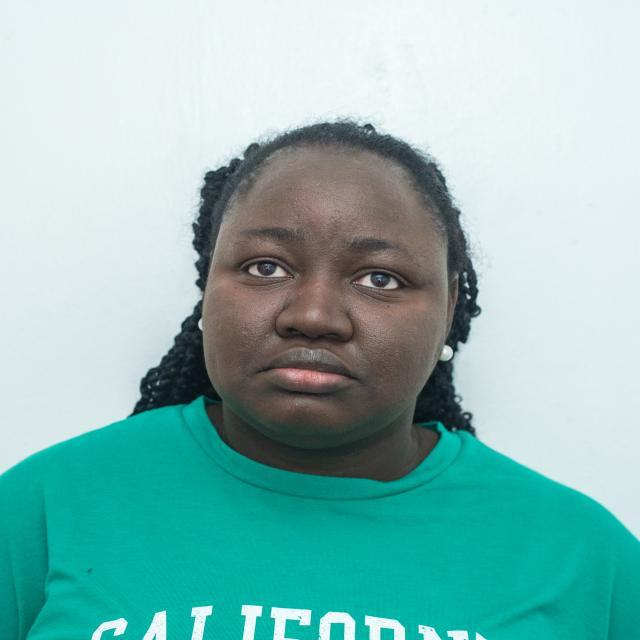sad: (193, 130, 462, 448)
